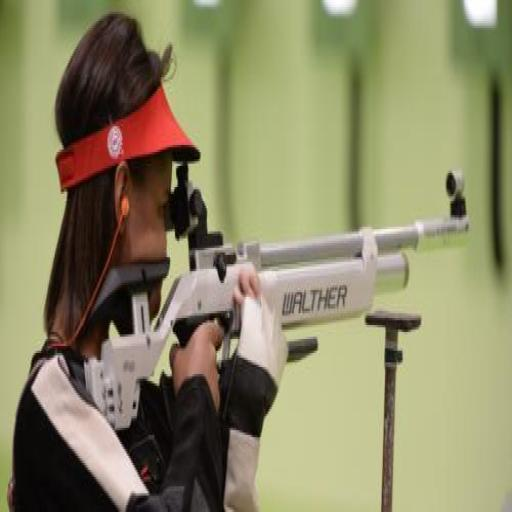shooting: (7, 9, 290, 510)
